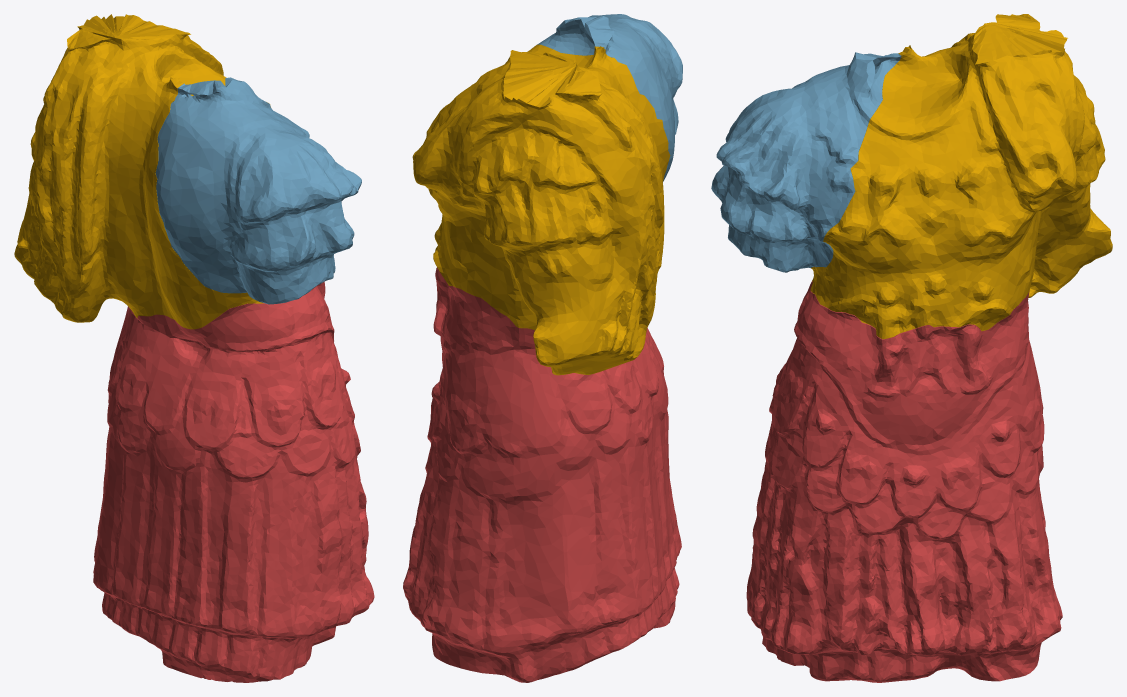
The model's file is fractured_13_3pcs.glb.
The picture shows the model from 3 angles, left to right: view 1: azimuth 30°, elevation 25°; view 2: azimuth 150°, elevation 25°; view 3: azimuth 270°, elevation 25°; orthographic projection. The views are drawn at different scales.
Visible parts, largest first — view 1: piece_1.obj, piece_0.obj, piece_2.obj; view 2: piece_1.obj, piece_0.obj, piece_2.obj; view 3: piece_1.obj, piece_0.obj, piece_2.obj.
Boxes of the visible parts, x1,y1,x2,y2 form: piece_1.obj: [93, 281, 374, 682]; piece_0.obj: [14, 14, 270, 329]; piece_2.obj: [155, 77, 361, 304]; piece_1.obj: [403, 267, 681, 682]; piece_0.obj: [412, 44, 670, 375]; piece_2.obj: [537, 14, 682, 182]; piece_1.obj: [746, 281, 1062, 682]; piece_0.obj: [810, 14, 1112, 339]; piece_2.obj: [711, 52, 901, 272].
Size of the model in its own units: 0.4705 by 1 by 0.6125.
